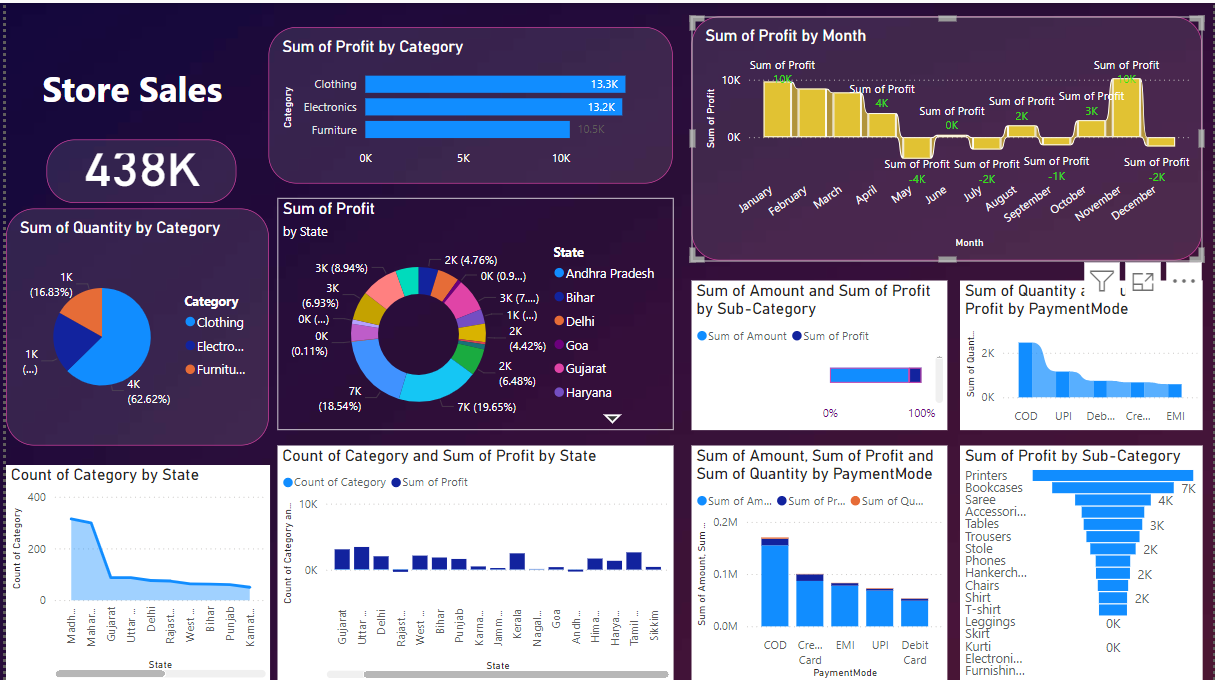

The page's visual inventory and layout, read from the dashboard file:
{"tool":"powerbi","page":{"name":"Page 1","canvas":[1280,720],"ordinal":0},"visuals":[{"type":"columnChart","fields":{"Y":["Sum(Details.Profit)"],"Category":["Orders.Order Date.Variation.Date Hierarchy.Month"]},"box":[727.1,14.3,541.4,258.6],"z":0},{"type":"barChart","fields":{"Category":["Details.Category"],"Y":["Sum(Details.Profit)"]},"box":[278.6,25.7,428.6,165.7],"z":1000},{"type":"card","fields":{"Values":["Sum(Details.Amount)"]},"box":[42.9,144.3,201.4,67.1],"z":2000},{"type":"pieChart","fields":{"Category":["Details.Category"],"Y":["Sum(Details.Quantity)"]},"box":[0,228.6,278.6,251.4],"z":3000},{"type":"textbox","box":[24.3,41.4,220,81.4],"z":4000},{"type":"donutChart","fields":{"Series":["Orders.State"],"Y":["Sum(Details.Profit)"]},"box":[287.1,207.1,420,245.7],"z":5000},{"type":"areaChart","fields":{"Category":["Orders.State"],"Y":["CountNonNull(Details.Category)"]},"box":[0,490,280,230],"z":6000},{"type":"columnChart","fields":{"Category":["Orders.State"],"Y":["CountNonNull(Details.Category)","Sum(Details.Profit)"]},"box":[287.1,468.6,420,251.4],"z":7000},{"type":"hundredPercentStackedBarChart","fields":{"Category":["Details.Sub-Category","Orders.Order Date.Variation.Date Hierarchy.Year","Orders.Order Date.Variation.Date Hierarchy.Quarter","Orders.Order Date.Variation.Date Hierarchy.Month","Orders.Order Date.Variation.Date Hierarchy.Day"],"Y":["Sum(Details.Amount)","Sum(Details.Profit)"]},"box":[727.1,294.3,271.4,158.6],"z":8000},{"type":"lineStackedColumnComboChart","fields":{"Y":["Sum(Details.Amount)","Sum(Details.Profit)","Sum(Details.Quantity)"],"Category":["Details.PaymentMode"]},"box":[727.1,468.6,271.4,251.4],"z":9000},{"type":"ribbonChart","fields":{"Category":["Details.PaymentMode"],"Y":["Sum(Details.Quantity)"]},"box":[1011.4,294.3,257.1,158.6],"z":9001},{"type":"funnel","fields":{"Category":["Details.Sub-Category Hierarchy.Sub-Category"],"Y":["Sum(Details.Profit)"]},"box":[1011,469,257,251],"z":9002}]}

Visuals, with their boxes in screenshot pixels (x1, y1, x2, y2), scaled from the page's 1280x720 canvas onto the 1215x680 screenshot:
columnChart - Sum(Details.Profit) x Orders.Order Date.Variation.Date Hierarchy.Month: x1=690, y1=14, x2=1204, y2=258
barChart - Details.Category x Sum(Details.Profit): x1=264, y1=24, x2=671, y2=181
card - Sum(Details.Amount): x1=41, y1=136, x2=232, y2=200
pieChart - Details.Category x Sum(Details.Quantity): x1=0, y1=216, x2=264, y2=453
textbox: x1=23, y1=39, x2=232, y2=116
donutChart - Orders.State x Sum(Details.Profit): x1=273, y1=196, x2=671, y2=428
areaChart - Orders.State x CountNonNull(Details.Category): x1=0, y1=463, x2=266, y2=679
columnChart - Orders.State x CountNonNull(Details.Category): x1=273, y1=443, x2=671, y2=679
hundredPercentStackedBarChart - Details.Sub-Category x Orders.Order Date.Variation.Date Hierarchy.Year: x1=690, y1=278, x2=948, y2=428
lineStackedColumnComboChart - Sum(Details.Amount) x Sum(Details.Profit): x1=690, y1=443, x2=948, y2=679
ribbonChart - Details.PaymentMode x Sum(Details.Quantity): x1=960, y1=278, x2=1204, y2=428
funnel - Details.Sub-Category Hierarchy.Sub-Category x Sum(Details.Profit): x1=960, y1=443, x2=1204, y2=679
